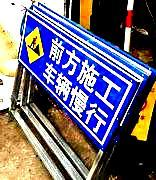sign: (25, 14, 117, 139)
